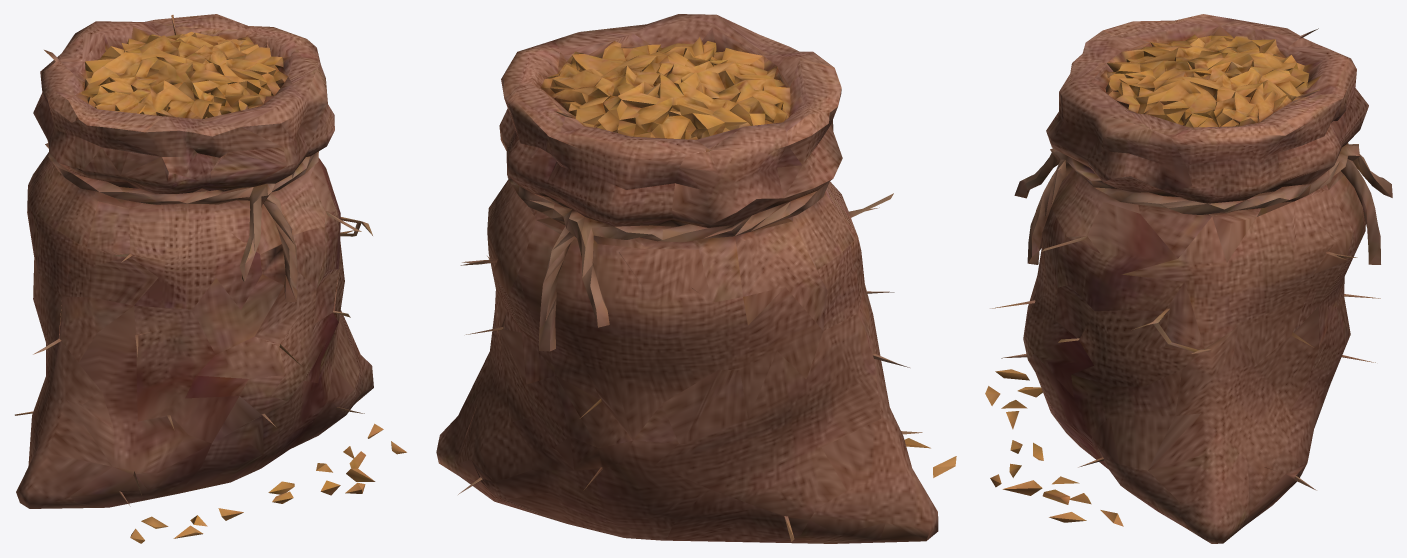
The model's file is food_grain_pshenitsa_idle.glb.
3 views of the same model, side by side, from view 1: azimuth 30°, elevation 25°; view 2: azimuth 150°, elevation 25°; view 3: azimuth 270°, elevation 25° (orthographic). The views are drawn at different scales.
Parts seen in each view (by area): view 1: tripo_node_a29eda6e-f06d-444b-b7a7-f6d953d99ce1; view 2: tripo_node_a29eda6e-f06d-444b-b7a7-f6d953d99ce1; view 3: tripo_node_a29eda6e-f06d-444b-b7a7-f6d953d99ce1.
Boxes of the visible parts, x1,y1,x2,y2 form: tripo_node_a29eda6e-f06d-444b-b7a7-f6d953d99ce1: (15, 14, 406, 543); tripo_node_a29eda6e-f06d-444b-b7a7-f6d953d99ce1: (436, 14, 956, 543); tripo_node_a29eda6e-f06d-444b-b7a7-f6d953d99ce1: (985, 14, 1392, 543).
Size of the model in its own units: 0.1591 by 0.1504 by 0.1411.
1 material, 1 textured.
